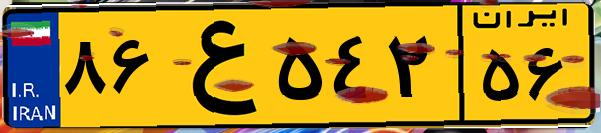2: (385, 28, 445, 110)
4: (330, 28, 385, 110)
5: (270, 28, 330, 110), (475, 38, 525, 113)
6: (525, 38, 570, 115), (110, 28, 158, 98)
8: (57, 26, 110, 100)
ع: (158, 12, 270, 120)
